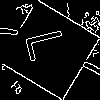L: (25, 25, 76, 63)
